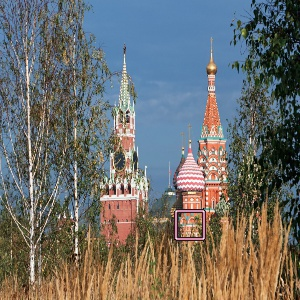square: (173, 208, 206, 241)
